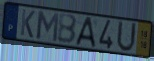4: (98, 19, 114, 51)
A: (74, 16, 97, 49)
B: (57, 14, 78, 46)
K: (19, 8, 36, 40)
M: (36, 9, 60, 44)
U: (115, 19, 138, 54)
